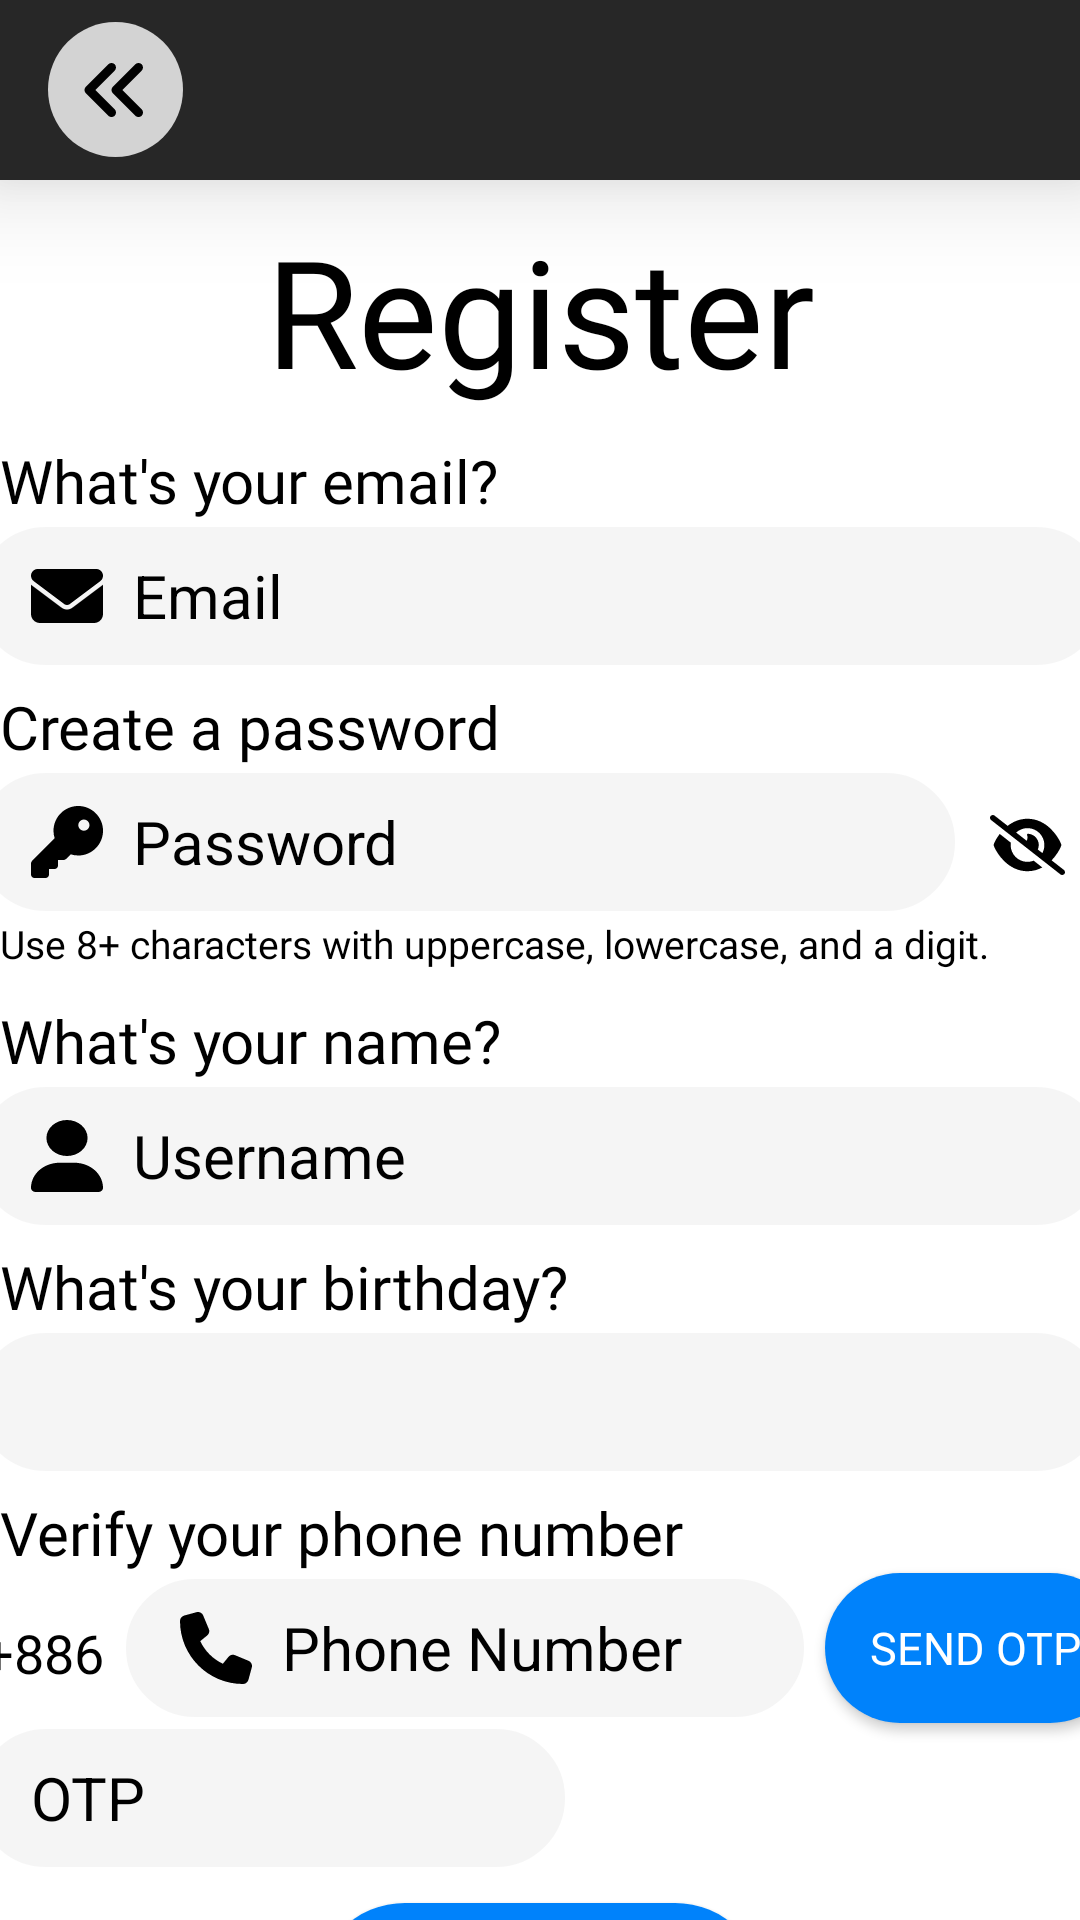

Icon bounding boxes for this 1080px x 1920px phone screenshot, format (x1, y1, x2, y2):
Back: (48, 22, 183, 157)
invisible: (990, 815, 1065, 875)
